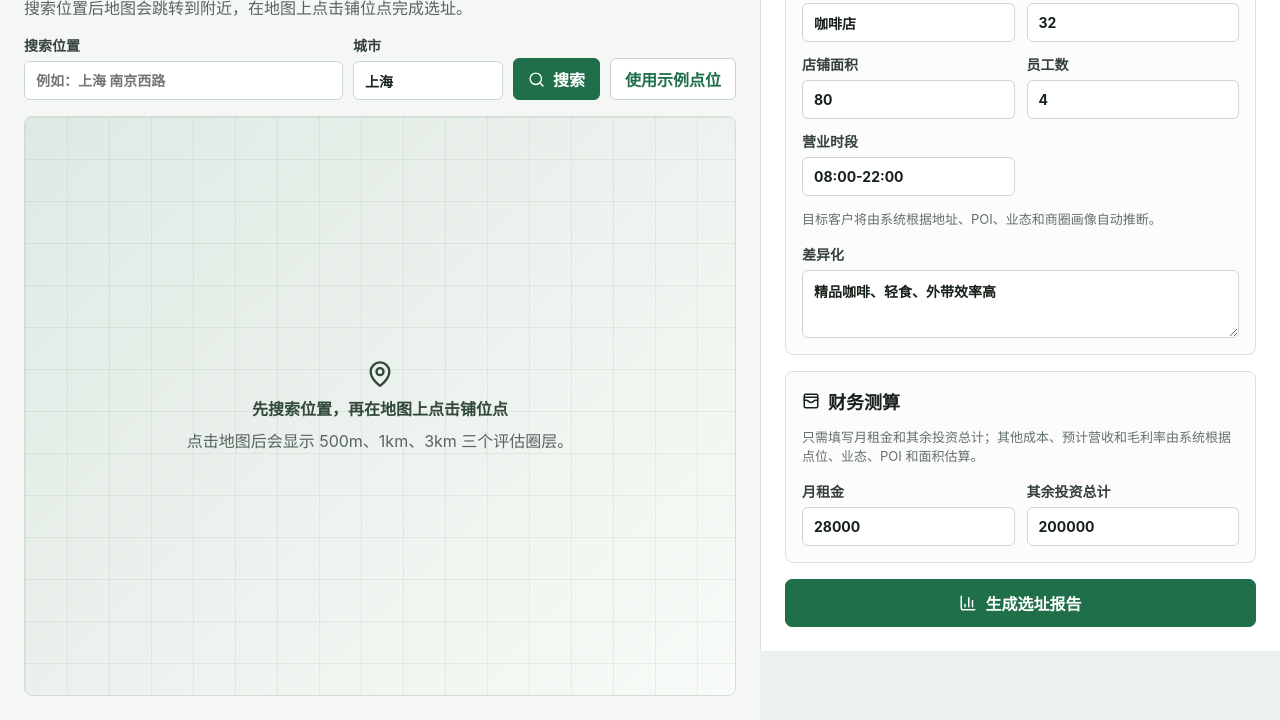
Test: App › validates required location before analysis
(page scrolled)
Click the button "生成选址报告" at (1020, 602), box left=785, top=578, right=1256, bottom=626
(page scrolled)
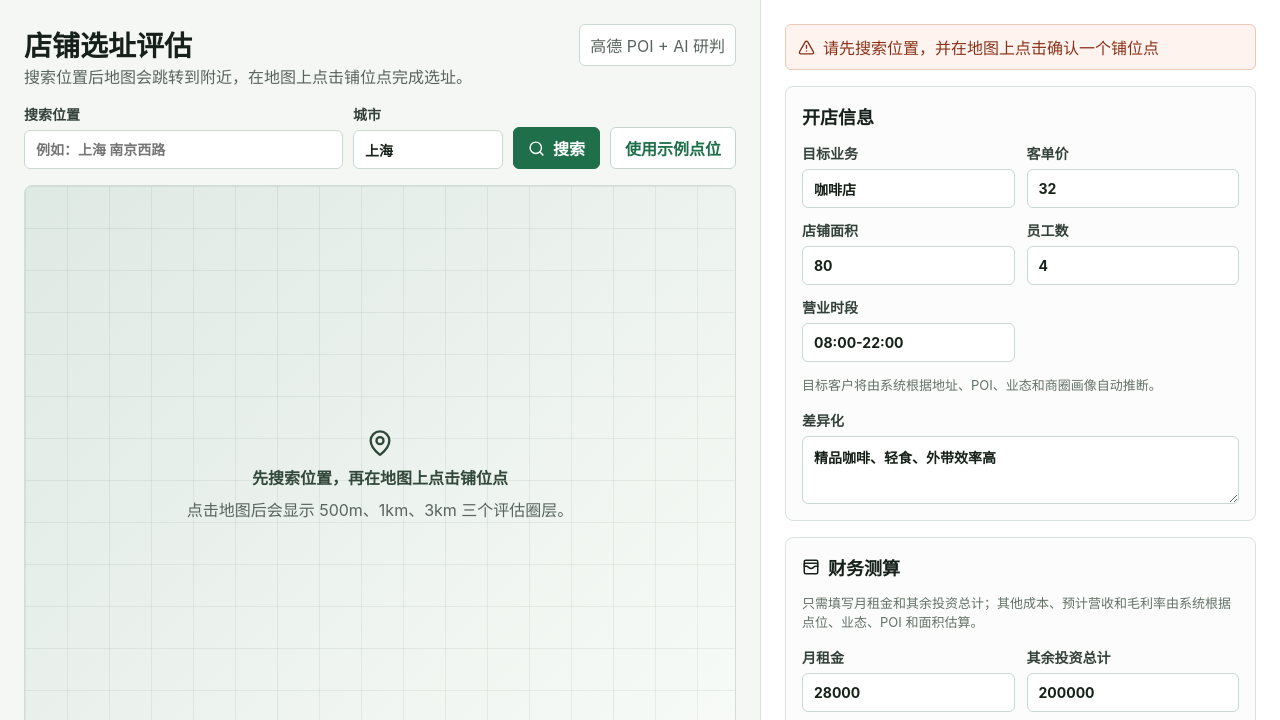
Result: the text "请先搜索位置，并在地图上点击确认一个铺位点" is shown at left=785, top=24, right=1256, bottom=70
